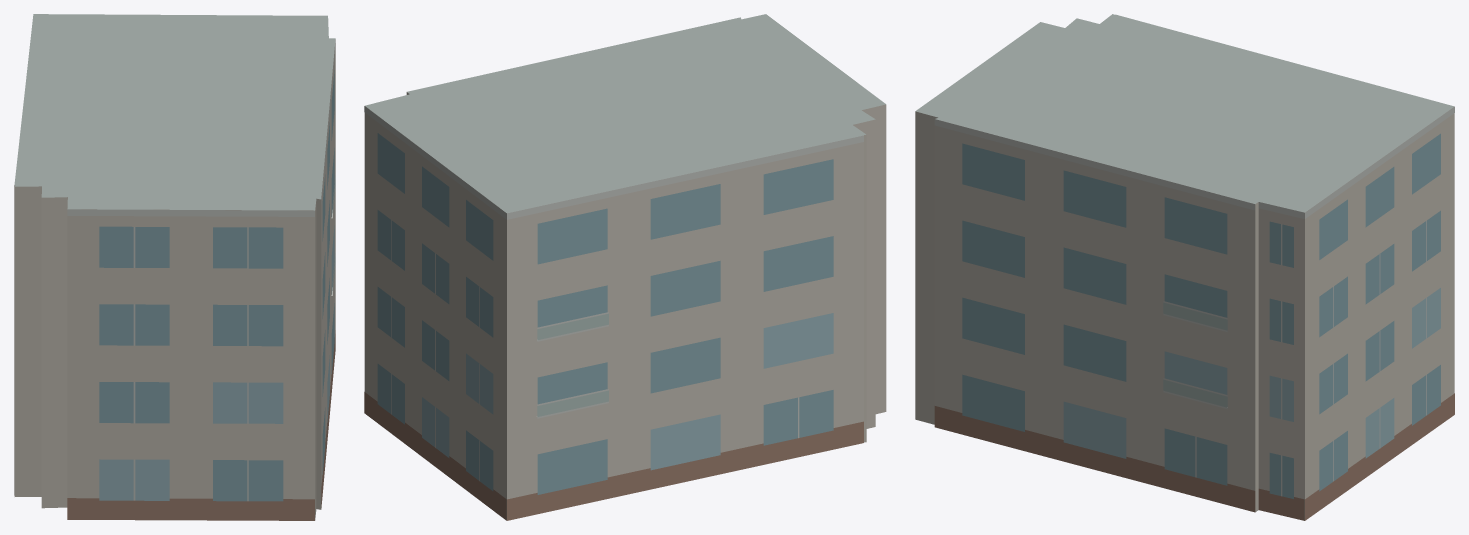
Rendered from survey-upis-32630295.glb.
The picture shows the model from 3 angles, left to right: view 1: azimuth 30°, elevation 25°; view 2: azimuth 150°, elevation 25°; view 3: azimuth 270°, elevation 25°; orthographic projection.
Parts seen in each view (by area): view 1: survey-upis-32630295.tmp; view 2: survey-upis-32630295.tmp; view 3: survey-upis-32630295.tmp.
Boxes of the visible parts, <box> form: survey-upis-32630295.tmp: <box>14,14,335,520</box>; survey-upis-32630295.tmp: <box>364,14,886,520</box>; survey-upis-32630295.tmp: <box>915,14,1454,520</box>.
Bounding box in the file's own units: 16.04 × 11.6 × 18.41.
